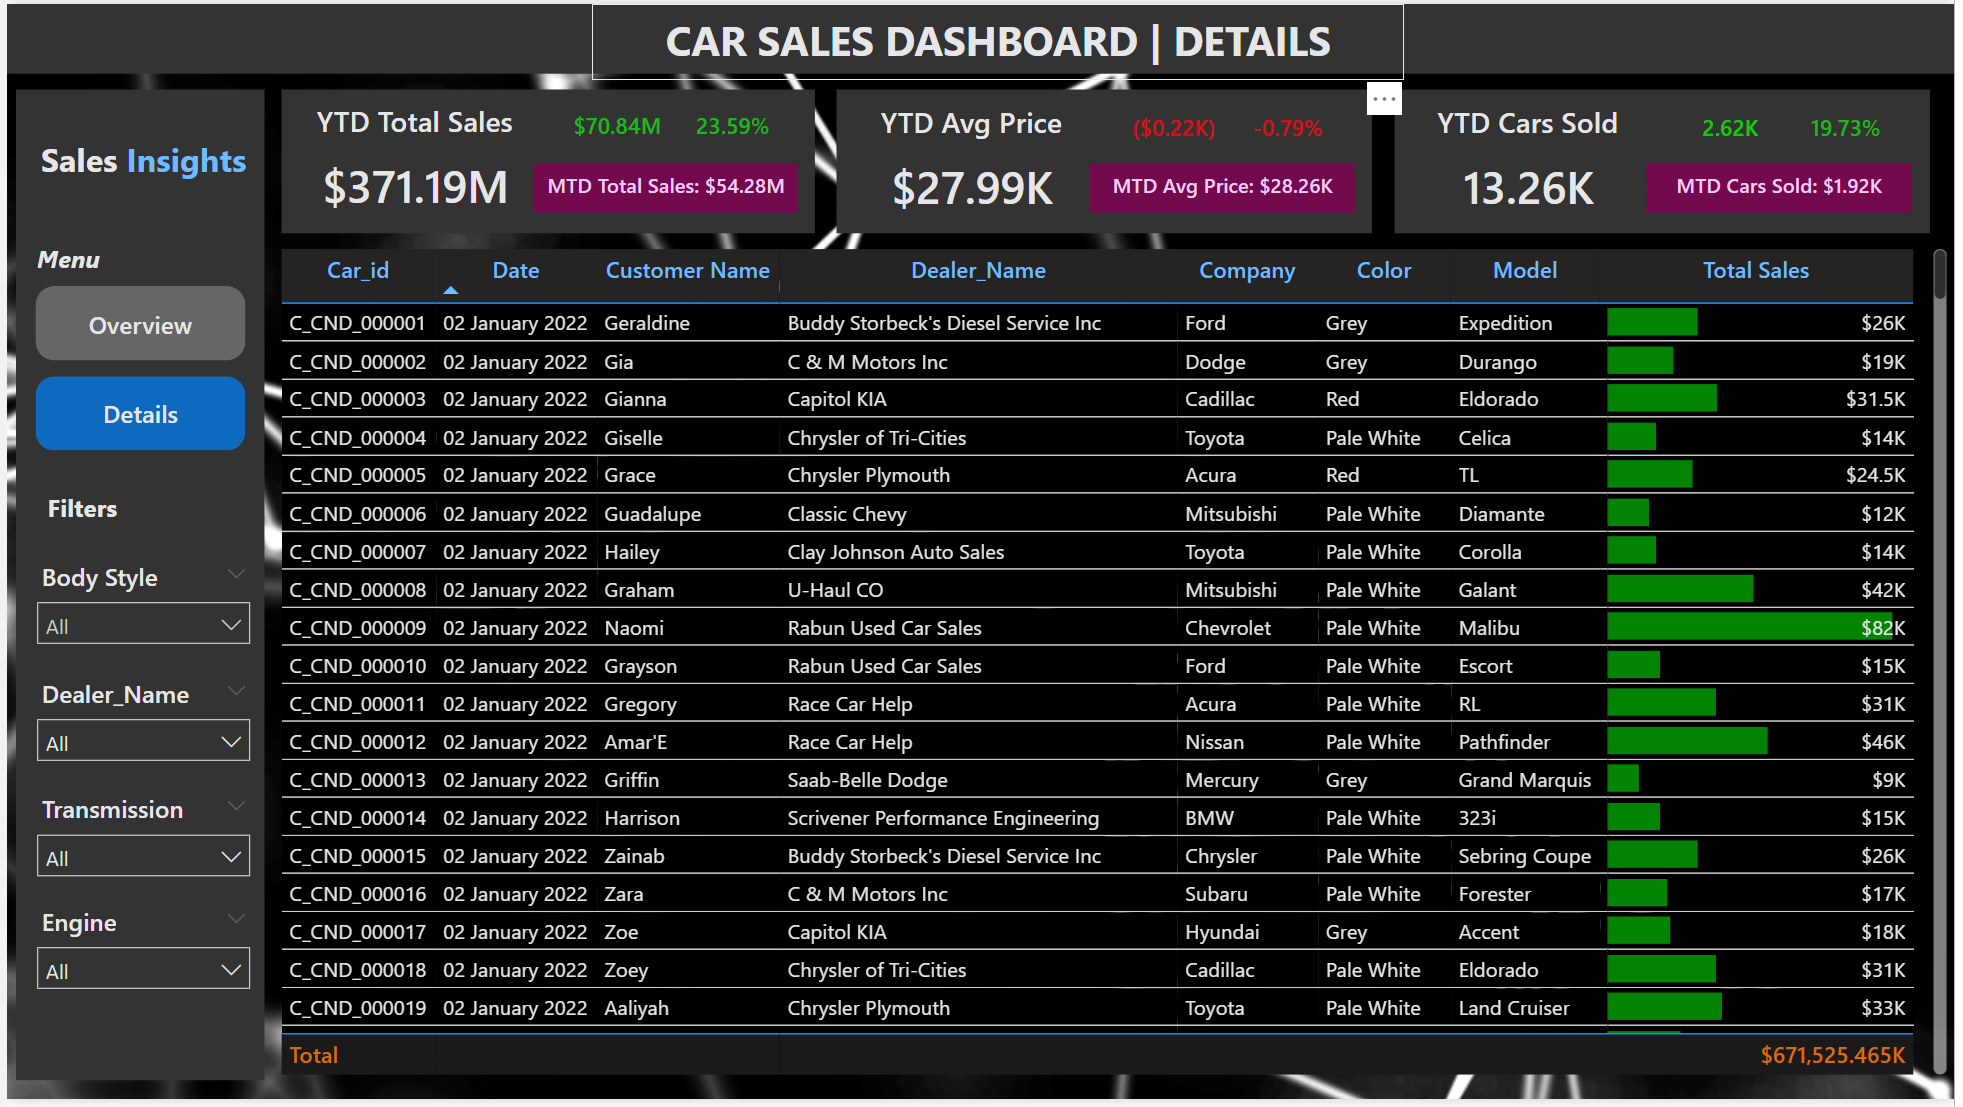

What the dashboard file says about the page in this screenshot:
{"tool":"powerbi","page":{"name":"Details","canvas":[1280,720],"ordinal":1},"visuals":[{"type":"shape","box":[0,0,1280,45.8],"z":0},{"type":"shape","box":[6.1,56.1,163.5,651.3],"z":1000},{"type":"shape","box":[180.8,56.2,350.7,94.5],"z":2000},{"type":"shape","box":[545.2,56.2,352.1,94.5],"z":3000},{"type":"shape","box":[912.3,56.2,352.1,94.5],"z":4000},{"type":"card","title":"YTD Total Sales","fields":{"Values":["car_data.YTD Total Sales"]},"box":[180.8,64.4,175.3,86.3],"z":5000},{"type":"card","fields":{"Values":["car_data.Sales Difference"]},"box":[346.6,64.4,109.6,35.6],"z":6000},{"type":"card","fields":{"Values":["car_data.YoY Sales Growth"]},"box":[421.9,64.4,109.6,35.6],"z":7000},{"type":"card","fields":{"Values":["car_data.MTD KPI"]},"box":[346.6,104.1,174,32.9],"z":8000},{"type":"card","title":"YTD Avg Price","fields":{"Values":["car_data.YTD Avg Price"]},"box":[546.1,65.3,175.3,86.3],"z":9000},{"type":"card","fields":{"Values":["car_data.Avg Price Difference"]},"box":[711.8,65.3,109.6,35.6],"z":10000},{"type":"card","fields":{"Values":["car_data.YoY Avg Price Growth"]},"box":[787.2,65.3,109.6,35.6],"z":11000},{"type":"card","fields":{"Values":["car_data.MTD Avg Price KPI"]},"box":[711.8,105,174,32.9],"z":12000},{"type":"card","title":"YTD Cars Sold","fields":{"Values":["car_data.YTD Cars Sold"]},"box":[912.3,65.3,175.3,86.3],"z":13000},{"type":"card","fields":{"Values":["car_data.Cars Sold Difference"]},"box":[1078,65.3,109.6,35.6],"z":14000},{"type":"card","fields":{"Values":["car_data.YoY Cars Sold Growth"]},"box":[1153.4,65.3,109.6,35.6],"z":15000},{"type":"card","fields":{"Values":["car_data.MTD Cars Sold KPIS"]},"box":[1078,105,174,32.9],"z":16000},{"type":"textbox","box":[384.3,0,534.3,50],"z":17000},{"type":"slicer","fields":{"Values":["car_data.Body Style"]},"box":[10,360,160,81.4],"z":18000},{"type":"textbox","box":[21.4,314.3,114.3,41.4],"z":19000},{"type":"slicer","fields":{"Values":["car_data.Dealer_Name"]},"box":[10,437.1,160,87.1],"z":20000},{"type":"slicer","fields":{"Values":["car_data.Transmission"]},"box":[10,512.9,160,87.1],"z":21000},{"type":"slicer","fields":{"Values":["car_data.Engine"]},"box":[10,587.1,160,87.1],"z":22000},{"type":"tableEx","fields":{"Values":["car_data.Car_id","car_data.Date","car_data.Customer Name","car_data.Dealer_Name","car_data.Company","car_data.Color","car_data.Model","Sum(car_data.Price ($))"]},"box":[174.3,155.7,1105.7,552.9],"z":23000},{"type":"textbox","box":[14.8,151.3,120.9,41.7],"z":24000},{"type":"pageNavigator","box":[18.3,185.7,138.7,108.7],"z":25000},{"type":"textbox","box":[10,81.4,160,50],"z":26000}]}

Visuals, with their boxes in screenshot pixels (x1, y1, x2, y2), scaled from the page's 1280x720 canvas onto the 1963x1107 screenshot:
shape: [left=0, top=0, right=1962, bottom=70]
shape: [left=9, top=86, right=260, bottom=1088]
shape: [left=277, top=86, right=815, bottom=232]
shape: [left=836, top=86, right=1376, bottom=232]
shape: [left=1399, top=86, right=1939, bottom=232]
"YTD Total Sales" card: [left=277, top=99, right=546, bottom=232]
card - car_data.Sales Difference: [left=532, top=99, right=700, bottom=154]
card - car_data.YoY Sales Growth: [left=647, top=99, right=815, bottom=154]
card - car_data.MTD KPI: [left=532, top=160, right=798, bottom=211]
"YTD Avg Price" card: [left=837, top=100, right=1106, bottom=233]
card - car_data.Avg Price Difference: [left=1092, top=100, right=1260, bottom=155]
card - car_data.YoY Avg Price Growth: [left=1207, top=100, right=1375, bottom=155]
card - car_data.MTD Avg Price KPI: [left=1092, top=161, right=1358, bottom=212]
"YTD Cars Sold" card: [left=1399, top=100, right=1668, bottom=233]
card - car_data.Cars Sold Difference: [left=1653, top=100, right=1821, bottom=155]
card - car_data.YoY Cars Sold Growth: [left=1769, top=100, right=1937, bottom=155]
card - car_data.MTD Cars Sold KPIS: [left=1653, top=161, right=1920, bottom=212]
textbox: [left=589, top=0, right=1409, bottom=77]
slicer - car_data.Body Style: [left=15, top=554, right=261, bottom=679]
textbox: [left=33, top=483, right=208, bottom=547]
slicer - car_data.Dealer_Name: [left=15, top=672, right=261, bottom=806]
slicer - car_data.Transmission: [left=15, top=789, right=261, bottom=922]
slicer - car_data.Engine: [left=15, top=903, right=261, bottom=1037]
tableEx - car_data.Car_id x car_data.Date: [left=267, top=239, right=1962, bottom=1089]
textbox: [left=23, top=233, right=208, bottom=297]
pageNavigator: [left=28, top=286, right=241, bottom=453]
textbox: [left=15, top=125, right=261, bottom=202]
